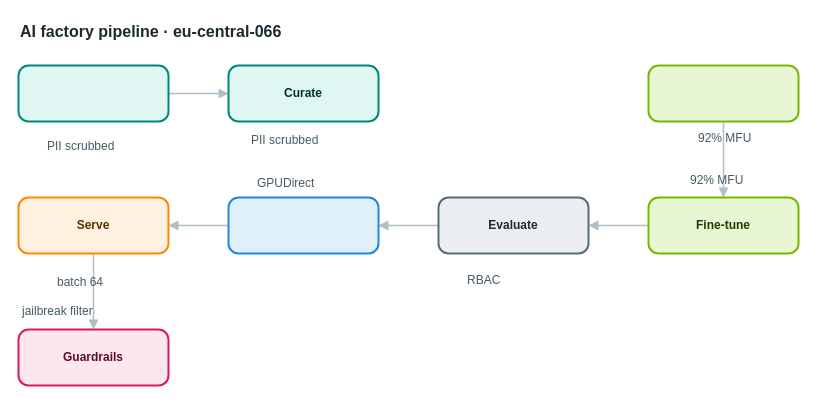
The diagram is 816 pixels wide and 403 high, and some of its shapes have lost their labels. The shapes that lost their labels are listed below. From the top down, each one's centre as x and y in pixels, then its label:
the point at 93,93: Ingest
the point at 723,93: Pretrain
the point at 303,225: Model registry
